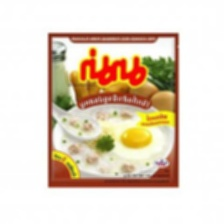snack: (40, 21, 187, 194)
